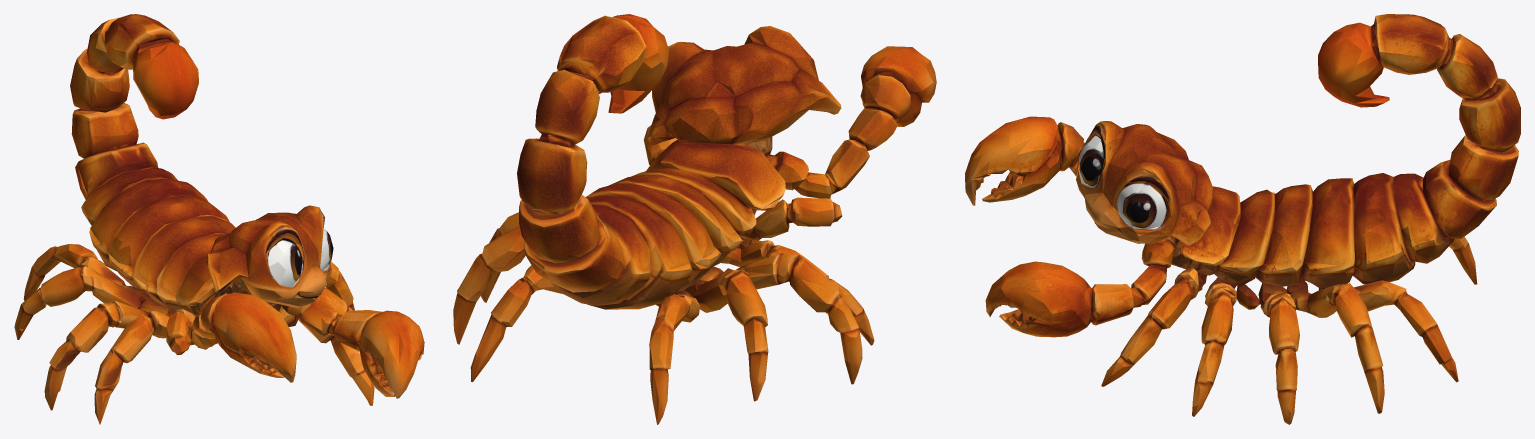
The picture shows the model from 3 angles, left to right: view 1: azimuth 30°, elevation 25°; view 2: azimuth 150°, elevation 25°; view 3: azimuth 270°, elevation 25°; orthographic projection. The views are drawn at different scales.
Parts seen in each view (by area): view 1: Mesh_0; view 2: Mesh_0; view 3: Mesh_0.
Part boxes in pixels (x1,y1,x2,y2): Mesh_0: (14,14,424,424); Mesh_0: (453,14,936,424); Mesh_0: (965,14,1520,424).
Bounding box in the file's own units: 1.32 × 1.24 × 1.9.
Materials: 1 (1 with a texture image).
